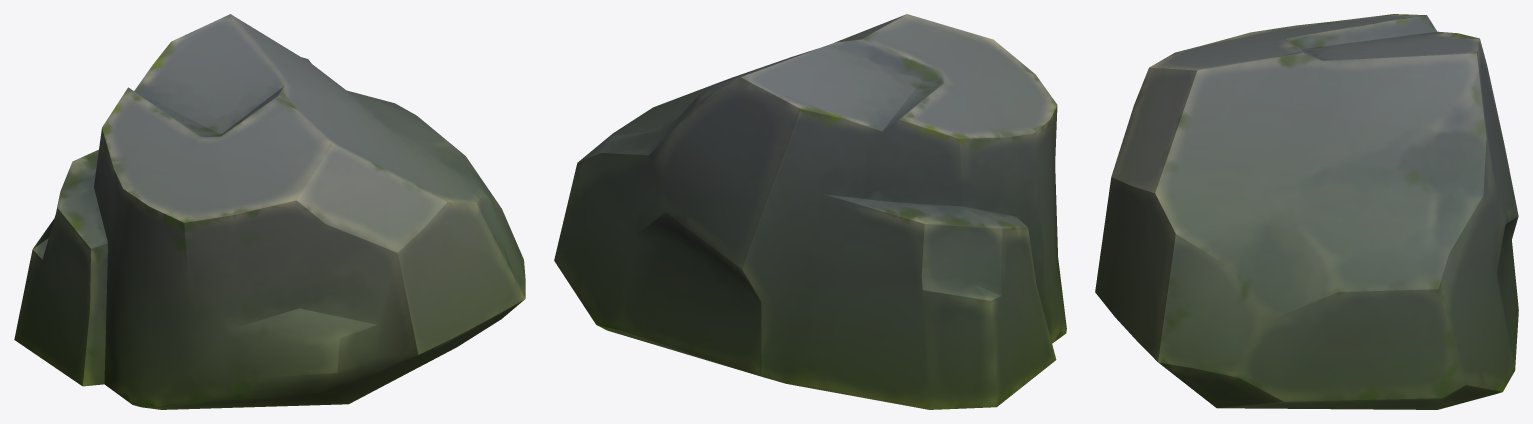
File: Rock_Medium_2.glb
3 views of the same model, side by side, from view 1: azimuth 30°, elevation 25°; view 2: azimuth 150°, elevation 25°; view 3: azimuth 270°, elevation 25° (orthographic). The views are drawn at different scales.
Visible parts, largest first — view 1: Rock_Medium_2; view 2: Rock_Medium_2; view 3: Rock_Medium_2.
Part boxes in pixels (x1,y1,x2,y2): Rock_Medium_2: [14, 14, 525, 409]; Rock_Medium_2: [554, 14, 1066, 409]; Rock_Medium_2: [1095, 14, 1518, 409].
Bounding box in the file's own units: 3.05 × 1.9 × 2.48.
1 material, 1 textured.
